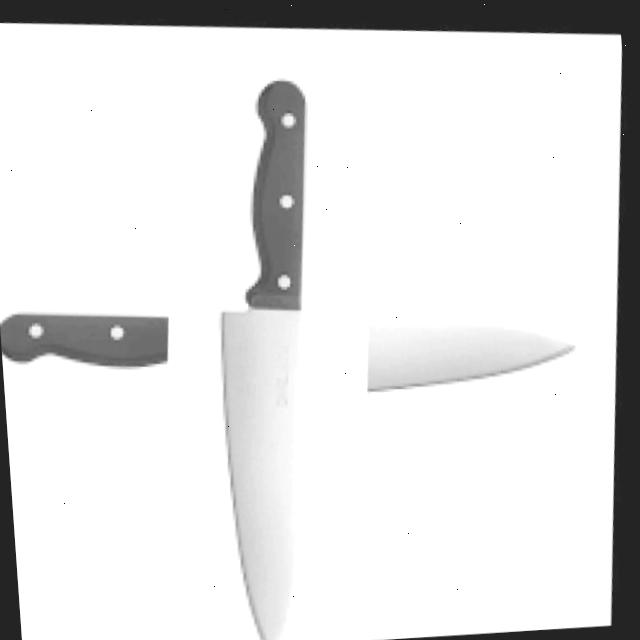knife: (0, 270, 578, 423), (196, 75, 346, 640)
